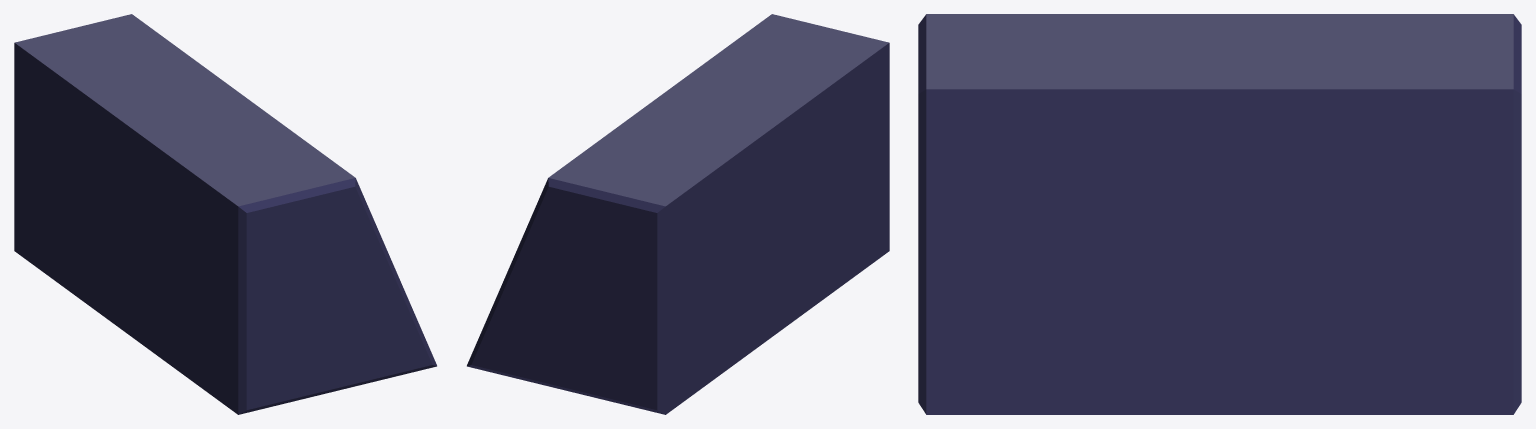
The model's file is newyork_barrier_4x8.fbx.
The picture shows the model from 3 angles, left to right: view 1: azimuth 30°, elevation 25°; view 2: azimuth 150°, elevation 25°; view 3: azimuth 270°, elevation 25°; orthographic projection. The views are drawn at different scales.
Visible parts, largest first — view 1: newyork_wall_4x8.001; view 2: newyork_wall_4x8.001; view 3: newyork_wall_4x8.001.
Boxes of the visible parts, <box> form: newyork_wall_4x8.001: <box>14,14,436,414</box>; newyork_wall_4x8.001: <box>467,14,889,414</box>; newyork_wall_4x8.001: <box>918,14,1521,414</box>.
Bounding box in the file's own units: 188 × 188 × 376.
Materials: 1 (1 with a texture image).
